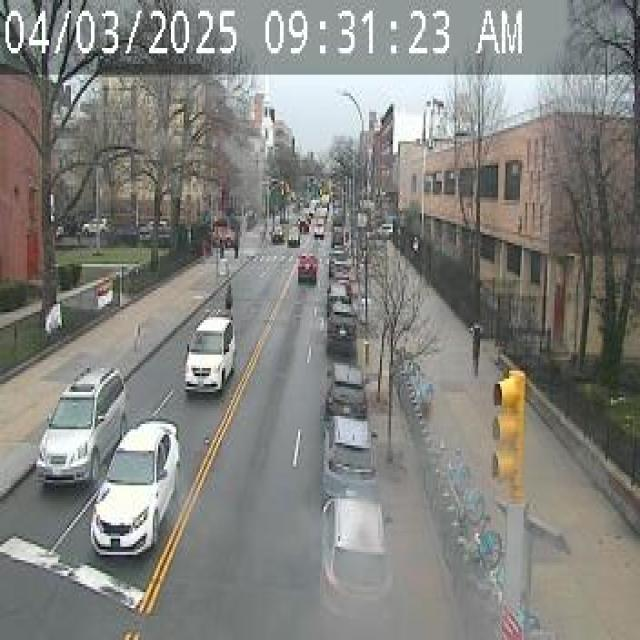open parking: (324, 237, 412, 488)
